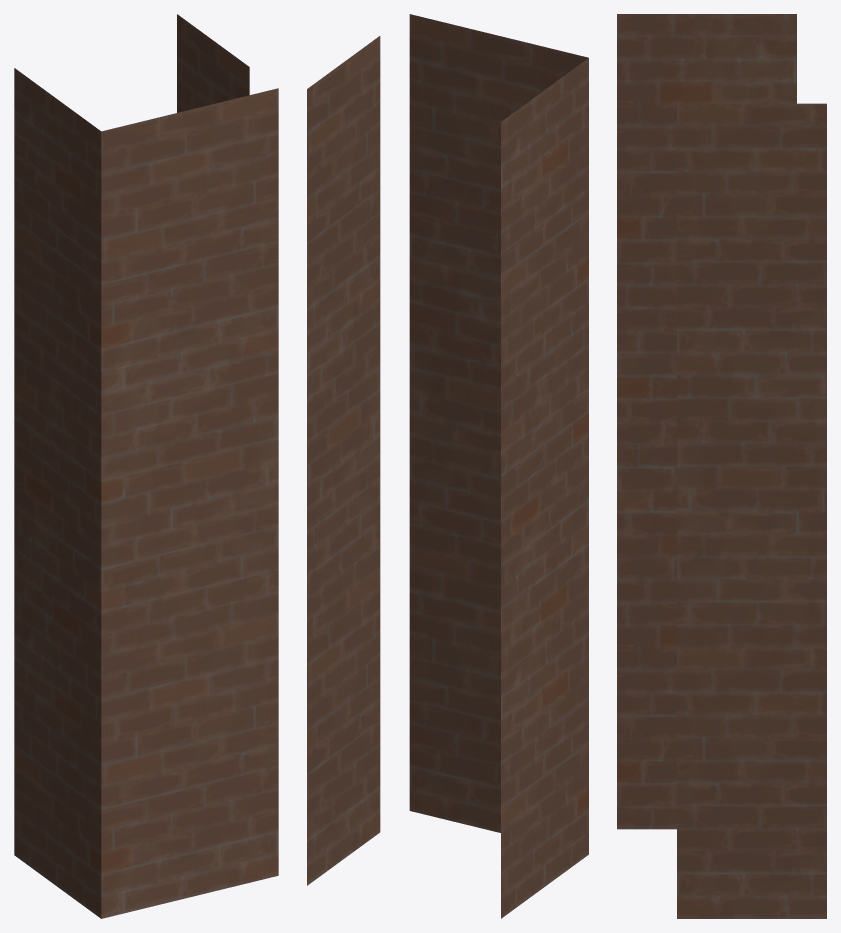
The model's file is brick_90angle_r.glb.
The picture shows the model from 3 angles, left to right: view 1: azimuth 30°, elevation 25°; view 2: azimuth 150°, elevation 25°; view 3: azimuth 270°, elevation 25°; orthographic projection. The views are drawn at different scales.
Parts seen in each view (by area): view 1: Brick_90Angle_R; view 2: Brick_90Angle_R; view 3: Brick_90Angle_R.
Boxes of the visible parts, left/top/right/bottom form: Brick_90Angle_R: left=14, top=14, right=278, bottom=918; Brick_90Angle_R: left=307, top=14, right=588, bottom=918; Brick_90Angle_R: left=617, top=14, right=826, bottom=918.
Size of the model in its own units: 0.7062 by 3 by 0.7.
Materials: 2 (2 with a texture image).
